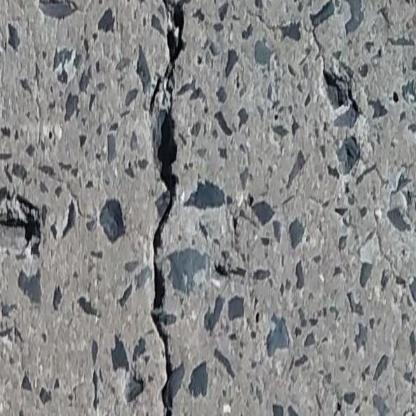Cracks: (144, 2, 190, 416)
